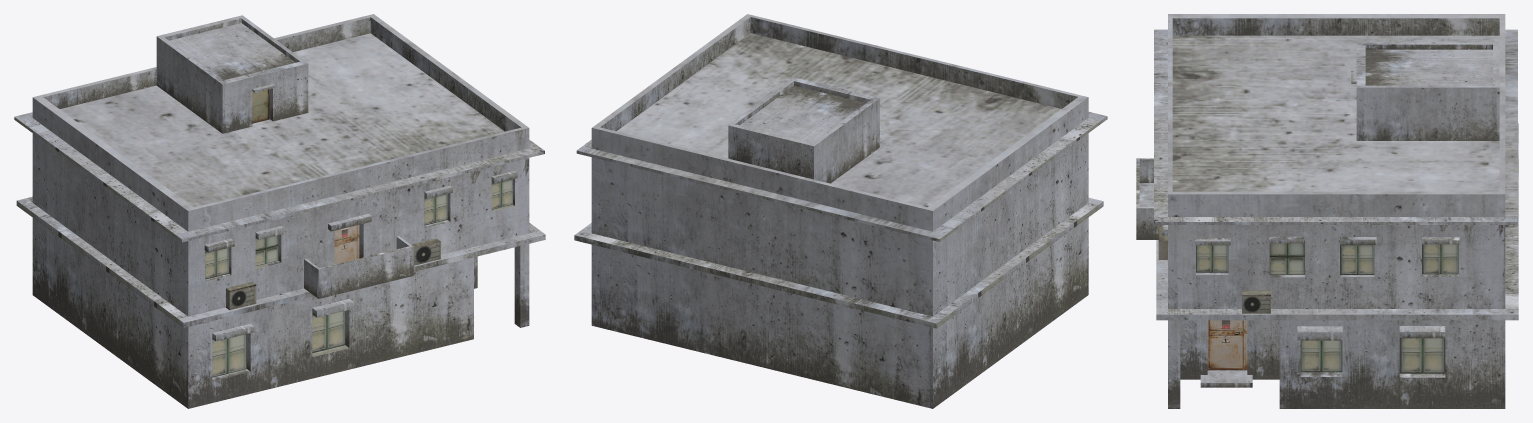
3 renders of one model, left to right at view 1: azimuth 30°, elevation 25°; view 2: azimuth 150°, elevation 25°; view 3: azimuth 270°, elevation 25°, orthographic. The views are drawn at different scales.
Parts seen in each view (by area): view 1: Model; view 2: Model; view 3: Model.
Part boxes in pixels (x1=…): Model: x1=14, y1=14, x2=545, y2=408; Model: x1=574, y1=14, x2=1107, y2=408; Model: x1=1136, y1=14, x2=1518, y2=408.
Size of the model in its own units: 529 by 320 by 443.
